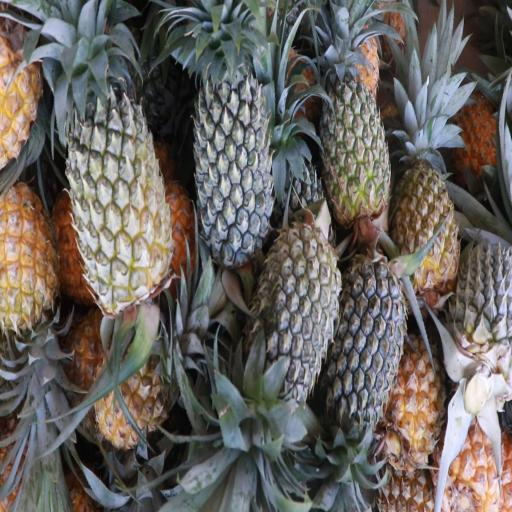------------------------------: (66, 73, 170, 309), (320, 45, 390, 224)
Pineapple - v8 v1: (94, 324, 204, 449), (396, 94, 462, 286), (0, 184, 61, 365), (384, 331, 454, 472)
